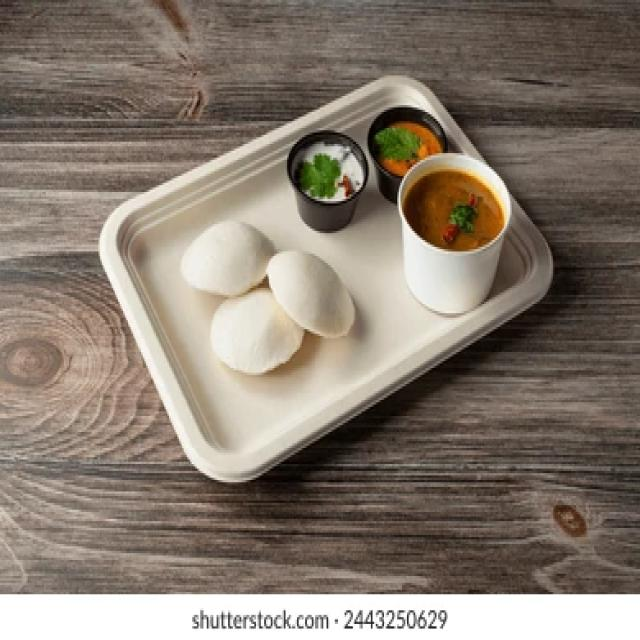DOSA: (212, 288, 304, 373), (269, 251, 353, 336), (181, 219, 274, 295)
